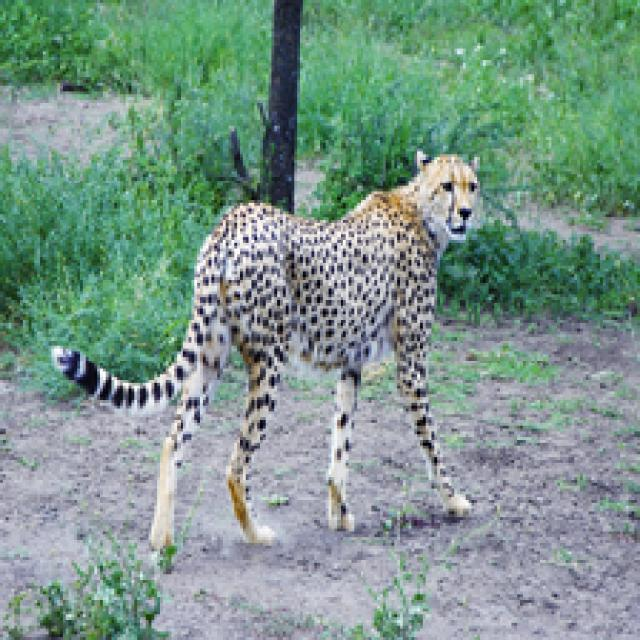cheetah: (54, 150, 484, 556)
